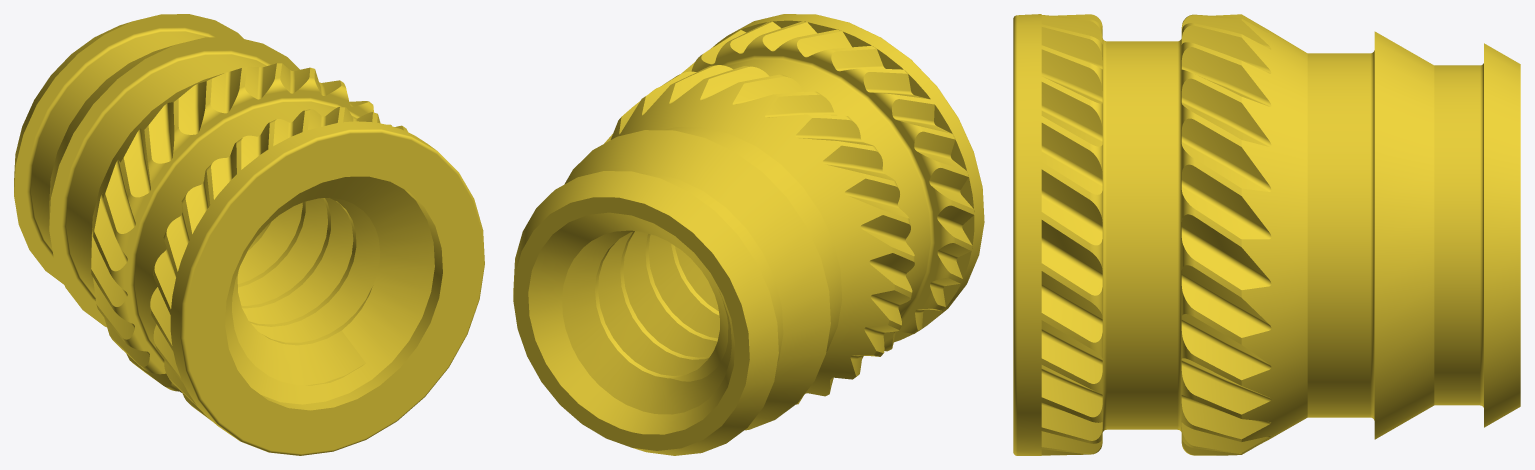
Rendered from _93365A132_Brass_Tapered_Heat_Set_Inserts_for_Plastic.gltf.
The picture shows the model from 3 angles, left to right: view 1: azimuth 30°, elevation 25°; view 2: azimuth 150°, elevation 25°; view 3: azimuth 270°, elevation 25°; orthographic projection. The views are drawn at different scales.
Parts seen in each view (by area): view 1: mesh16924, mesh16921, mesh16922, mesh16914, mesh17065, mesh16912, mesh16910, mesh16908, mesh16926, mesh16925, mesh17063, mesh16923 (+21 smaller); view 2: mesh16919, mesh16911, mesh16927, mesh16915, mesh16917, mesh16916, mesh17065, mesh16914, mesh16926, mesh17067, mesh17199, mesh16920 (+18 smaller); view 3: mesh17065, mesh16914, mesh16911, mesh16927, mesh16910, mesh16915, mesh16926, mesh16925, mesh17066, mesh17064, mesh16913, mesh17040 (+42 smaller).
Part boxes in pixels (bbox=[...]): mesh16924: bbox=[184, 133, 483, 453]; mesh16921: bbox=[232, 197, 380, 385]; mesh16922: bbox=[225, 176, 434, 404]; mesh16914: bbox=[66, 54, 266, 296]; mesh17065: bbox=[134, 101, 356, 346]; mesh16912: bbox=[49, 37, 299, 327]; mesh16910: bbox=[31, 31, 208, 250]; mesh16908: bbox=[14, 14, 243, 284]; mesh16926: bbox=[170, 121, 435, 439]; mesh16925: bbox=[180, 129, 484, 455]; mesh17063: bbox=[124, 90, 366, 373]; mesh16923: bbox=[261, 190, 442, 410]; mesh16919: bbox=[562, 230, 731, 414]; mesh16911: bbox=[564, 130, 830, 430]; mesh16927: bbox=[610, 79, 894, 404]; mesh16915: bbox=[513, 171, 778, 455]; mesh16917: bbox=[528, 212, 734, 434]; mesh16916: bbox=[513, 197, 749, 450]; mesh17065: bbox=[727, 59, 930, 316]; mesh16914: bbox=[663, 127, 842, 351]; mesh16926: bbox=[721, 14, 983, 322]; mesh17067: bbox=[697, 48, 940, 341]; mesh17199: bbox=[713, 20, 974, 342]; mesh16920: bbox=[595, 231, 719, 378]; mesh17065: bbox=[1106, 41, 1177, 429]; mesh16914: bbox=[1307, 53, 1370, 417]; mesh16911: bbox=[1374, 31, 1434, 439]; mesh16927: bbox=[1241, 16, 1307, 453]; mesh16910: bbox=[1434, 65, 1479, 405]; mesh16915: bbox=[1484, 43, 1520, 427]; mesh16926: bbox=[1017, 14, 1041, 455]; mesh16925: bbox=[1013, 15, 1017, 455]; mesh17066: bbox=[1102, 38, 1106, 432]; mesh17064: bbox=[1177, 39, 1181, 431]; mesh16913: bbox=[1370, 50, 1374, 420]; mesh17040: bbox=[1181, 366, 1268, 414].
Size of the model in its own units: 0.00552 by 0.00553 by 0.00635.
